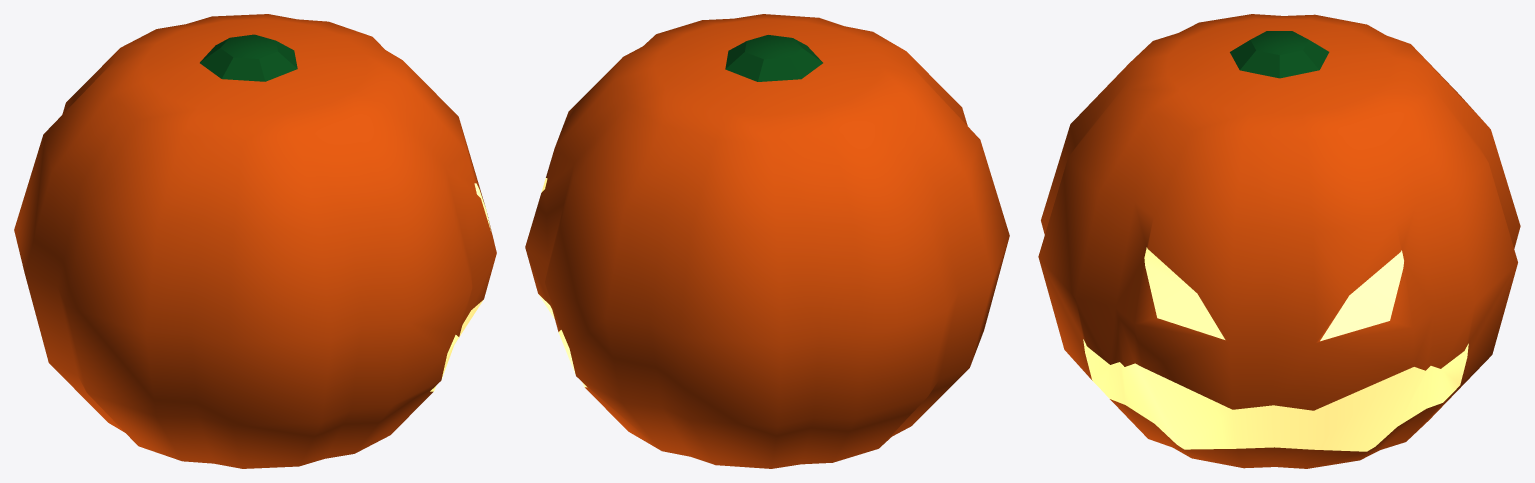
The model's file is Needle.fbx.
The picture shows the model from 3 angles, left to right: view 1: azimuth 30°, elevation 25°; view 2: azimuth 150°, elevation 25°; view 3: azimuth 270°, elevation 25°; orthographic projection.
Visible parts, largest first — view 1: Sphere.017; view 2: Sphere.017; view 3: Sphere.017.
Boxes of the visible parts, x1,y1,x2,y2 form: Sphere.017: (14, 14, 496, 468); Sphere.017: (525, 14, 1009, 468); Sphere.017: (1038, 14, 1520, 468).
Bounding box in the file's own units: 116 × 100 × 116.
